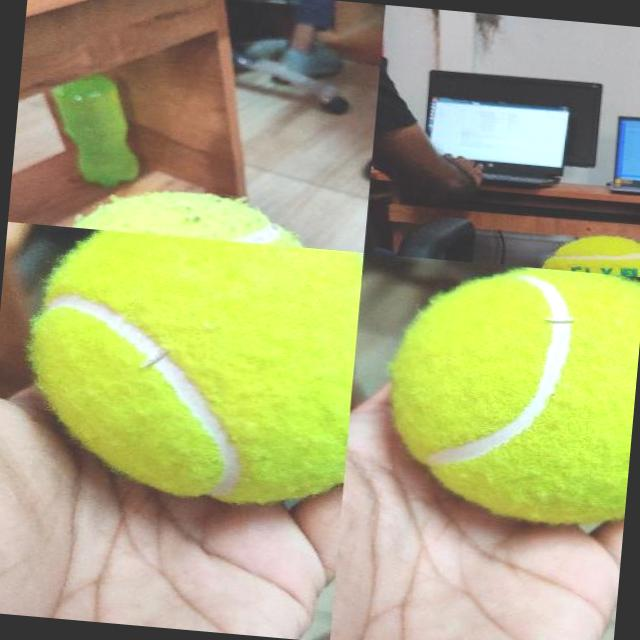tennis-ball: (18, 224, 362, 512), (381, 256, 640, 528), (539, 230, 640, 276)
